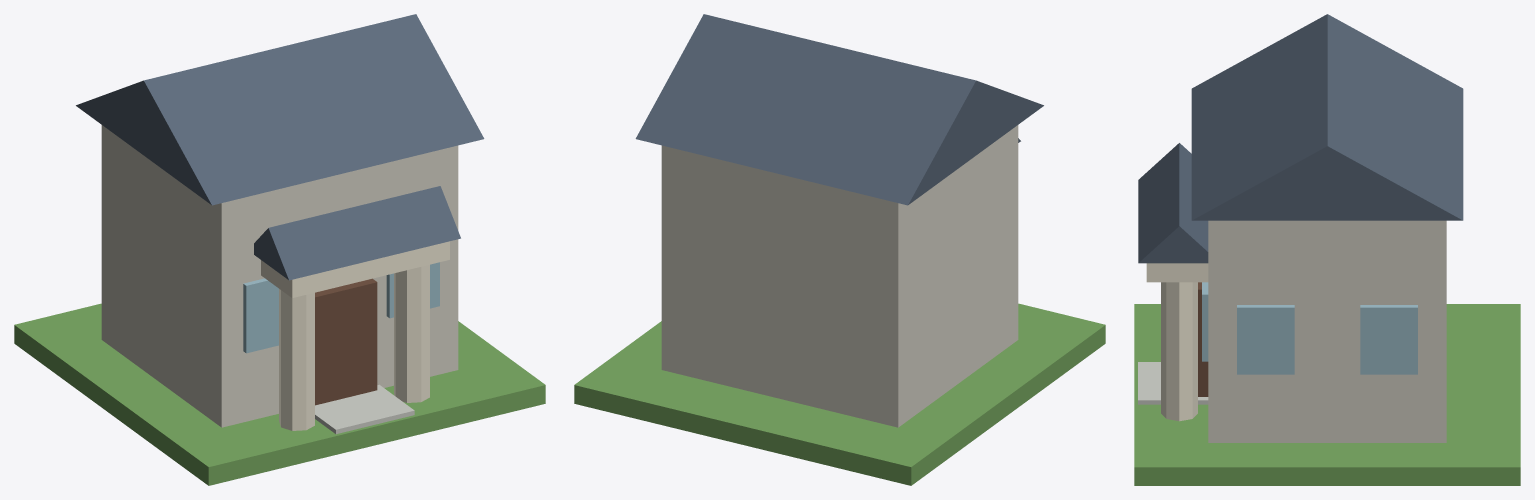
The model's file is cityHall-2.glb.
The picture shows the model from 3 angles, left to right: view 1: azimuth 30°, elevation 25°; view 2: azimuth 150°, elevation 25°; view 3: azimuth 270°, elevation 25°; orthographic projection.
Parts seen in each view (by area): view 1: cityHall-2; view 2: cityHall-2; view 3: cityHall-2.
Part boxes in pixels (box(x1,y1,x2,y2)): cityHall-2: box(14, 14, 545, 485); cityHall-2: box(574, 14, 1105, 485); cityHall-2: box(1134, 14, 1520, 485).
Bounding box in the file's own units: 0.94 × 0.87 × 0.94.
